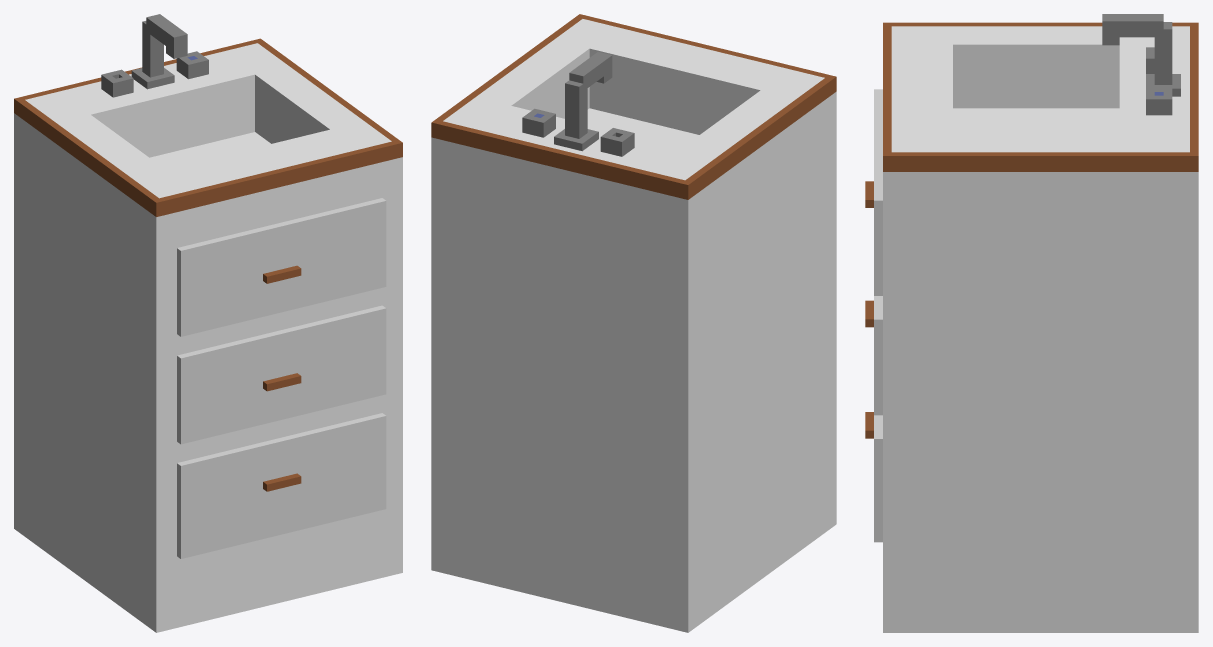
Rendered from SchoolPack-33-Scientific laundr.obj.
The picture shows the model from 3 angles, left to right: view 1: azimuth 30°, elevation 25°; view 2: azimuth 150°, elevation 25°; view 3: azimuth 270°, elevation 25°; orthographic projection. The views are drawn at different scales.
Visible parts, largest first — view 1: Scientific laundr; view 2: Scientific laundr; view 3: Scientific laundr.
Part boxes in pixels (x1,y1,x2,y2): Scientific laundr: (14, 14, 402, 632); Scientific laundr: (431, 14, 836, 632); Scientific laundr: (865, 14, 1198, 632).
Size of the model in its own units: 3.6 by 6.9 by 3.8.
Materials: 1 (1 with a texture image).
